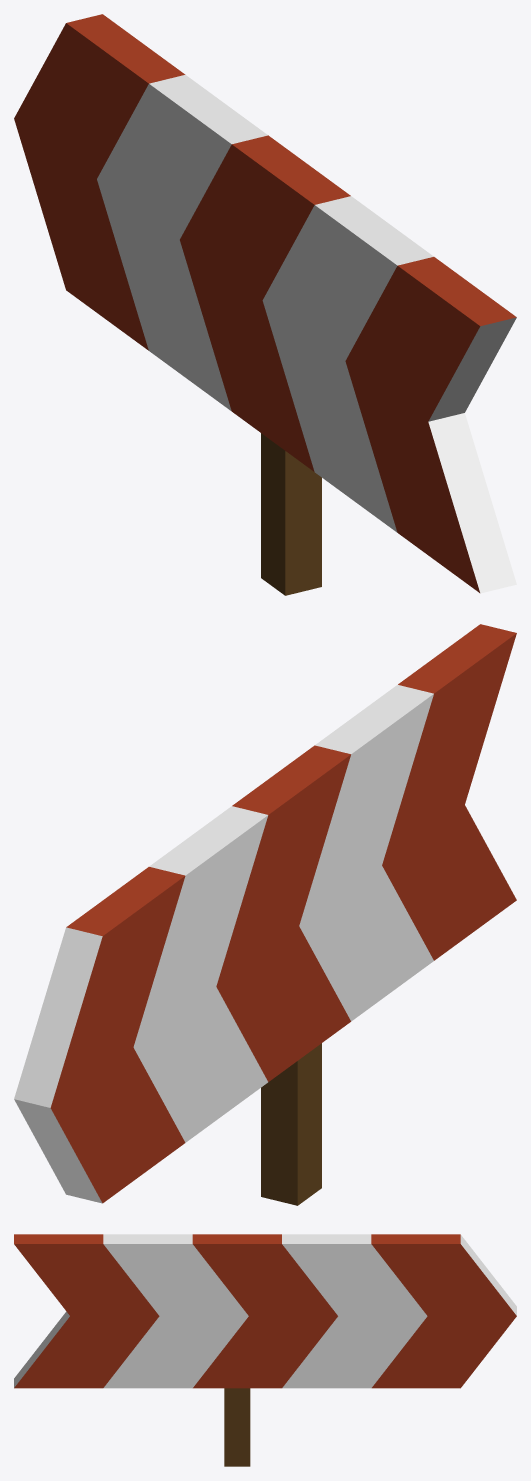
Rendered from arrow_sign.glb.
The picture shows the model from 3 angles, top to bottom: view 1: azimuth 30°, elevation 25°; view 2: azimuth 150°, elevation 25°; view 3: azimuth 270°, elevation 25°; orthographic projection. The views are drawn at different scales.
Visible parts, largest first — view 1: Cube.001; view 2: Cube.001; view 3: Cube.001.
Part boxes in pixels (x1,y1,x2,y2): Cube.001: [14, 14, 516, 595]; Cube.001: [14, 624, 516, 1205]; Cube.001: [14, 1234, 516, 1466].
Size of the model in its own units: 0.0989 by 1.06 by 2.18.
1 material, 1 textured.
